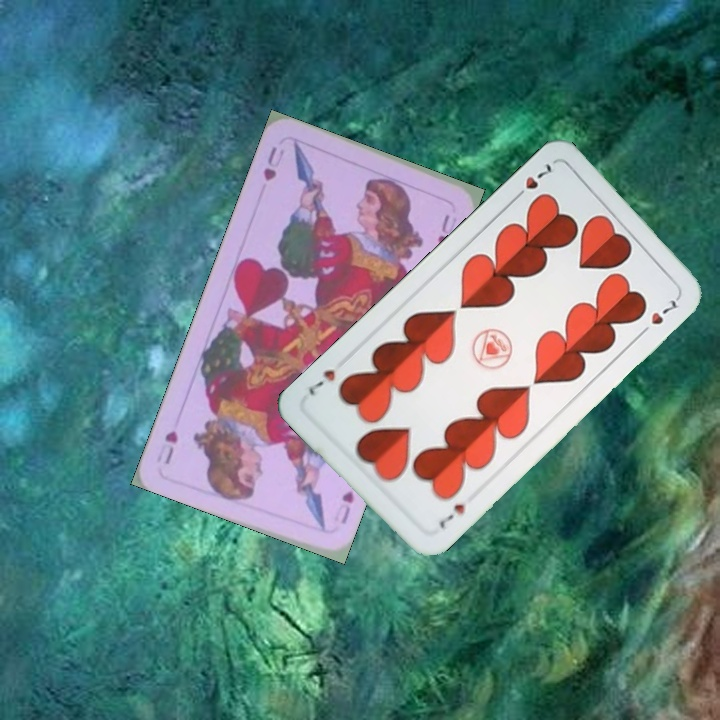H7: (509, 159, 557, 203), (435, 499, 468, 531)
HU: (259, 142, 288, 184), (329, 487, 357, 527)
